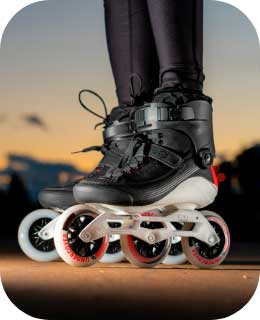roller_blade: (45, 101, 231, 268)
